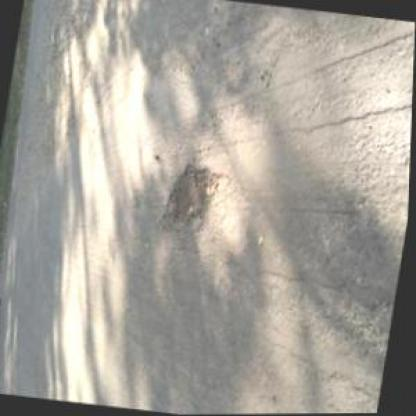pothole: (158, 154, 230, 241)
